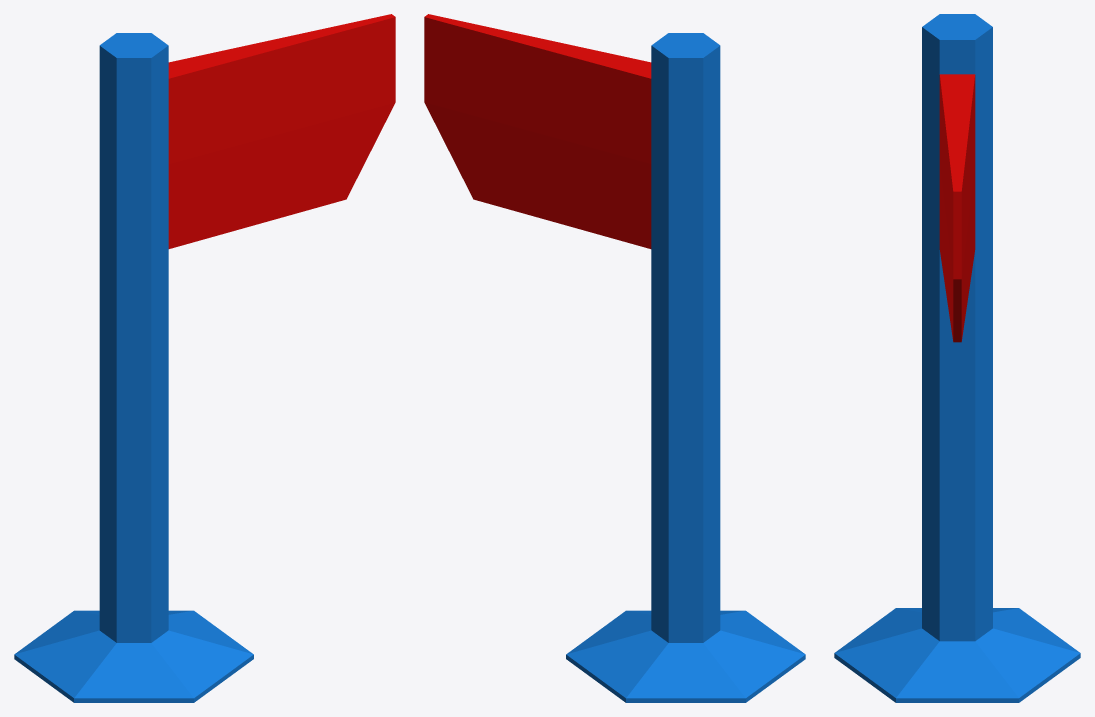
Rendered from flag.fbx.
The picture shows the model from 3 angles, left to right: view 1: azimuth 30°, elevation 25°; view 2: azimuth 150°, elevation 25°; view 3: azimuth 270°, elevation 25°; orthographic projection. The views are drawn at different scales.
Parts seen in each view (by area): view 1: FLAG; view 2: FLAG; view 3: FLAG.
Part boxes in pixels (x1,y1,x2,y2): FLAG: [14, 14, 395, 702]; FLAG: [424, 14, 805, 702]; FLAG: [834, 14, 1080, 702].
Bounding box in the file's own units: 70.78 × 119 × 200.
